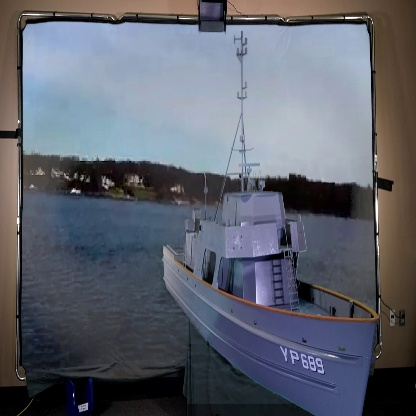YP689: (163, 32, 379, 416)
